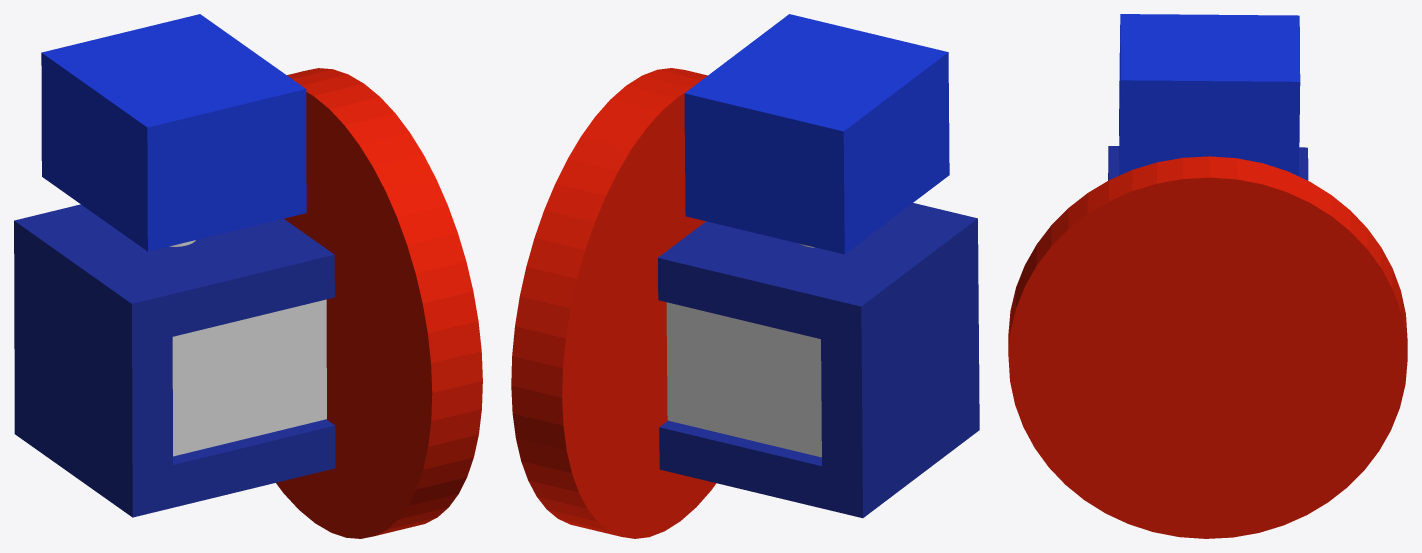
File: swerve_drive.dae
3 views of the same model, side by side, from view 1: azimuth 30°, elevation 25°; view 2: azimuth 150°, elevation 25°; view 3: azimuth 270°, elevation 25° (orthographic). The views are drawn at different scales.
Visible parts, largest first — view 1: Holder.001, Wheel.001, Motor1.001, Motor2 .001; view 2: Holder.001, Wheel.001, Motor1.001, Motor2 .001; view 3: Wheel.001, Motor1.001, Holder.001.
Part boxes in pixels (x1,y1,x2,y2): Holder.001: (14, 204, 335, 517); Wheel.001: (276, 68, 482, 538); Motor1.001: (41, 14, 306, 251); Motor2 .001: (172, 299, 326, 456); Holder.001: (658, 203, 979, 518); Wheel.001: (511, 68, 716, 538); Motor1.001: (684, 14, 949, 254); Motor2 .001: (666, 302, 821, 457); Wheel.001: (1008, 156, 1407, 538); Motor1.001: (1119, 14, 1300, 176); Holder.001: (1108, 146, 1308, 180).
Bounding box in the file's own units: 0.0569 × 0.0788 × 0.09.
